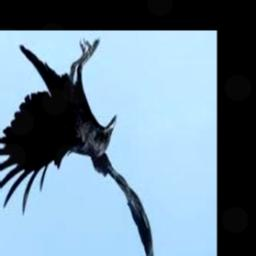Crow: (0, 36, 154, 256)
